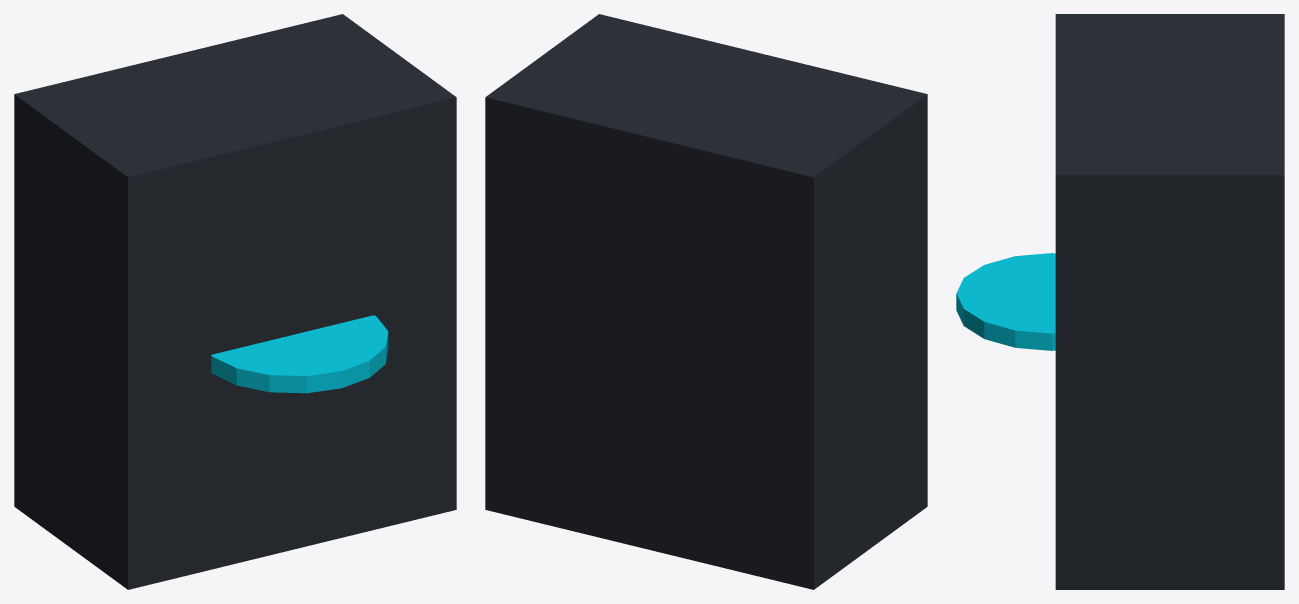
The model's file is data_vault.obj.
3 views of the same model, side by side, from view 1: azimuth 30°, elevation 25°; view 2: azimuth 150°, elevation 25°; view 3: azimuth 270°, elevation 25° (orthographic).
Parts seen in each view (by area): view 1: DataVault; view 2: DataVault; view 3: DataVault.
Boxes of the visible parts, left/top/right/bottom form: DataVault: left=14, top=14, right=456, bottom=589; DataVault: left=485, top=14, right=927, bottom=589; DataVault: left=956, top=14, right=1284, bottom=589.
Bounding box in the file's own units: 2 × 2.4 × 1.72.
